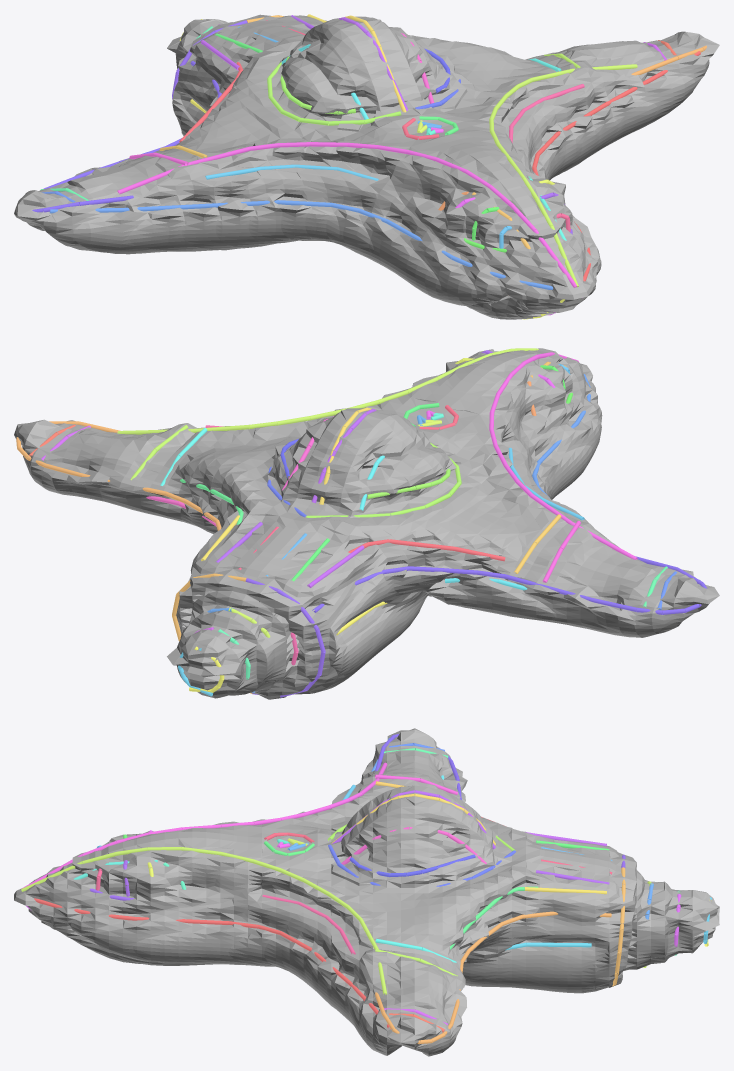
The model's file is author1_ship.gltf.
3 views of the same model, one above another, from view 1: azimuth 30°, elevation 25°; view 2: azimuth 150°, elevation 25°; view 3: azimuth 270°, elevation 25° (orthographic). The views are drawn at different scales.
Bounding box in the file's own units: 0.728 × 0.2035 × 0.6956.
